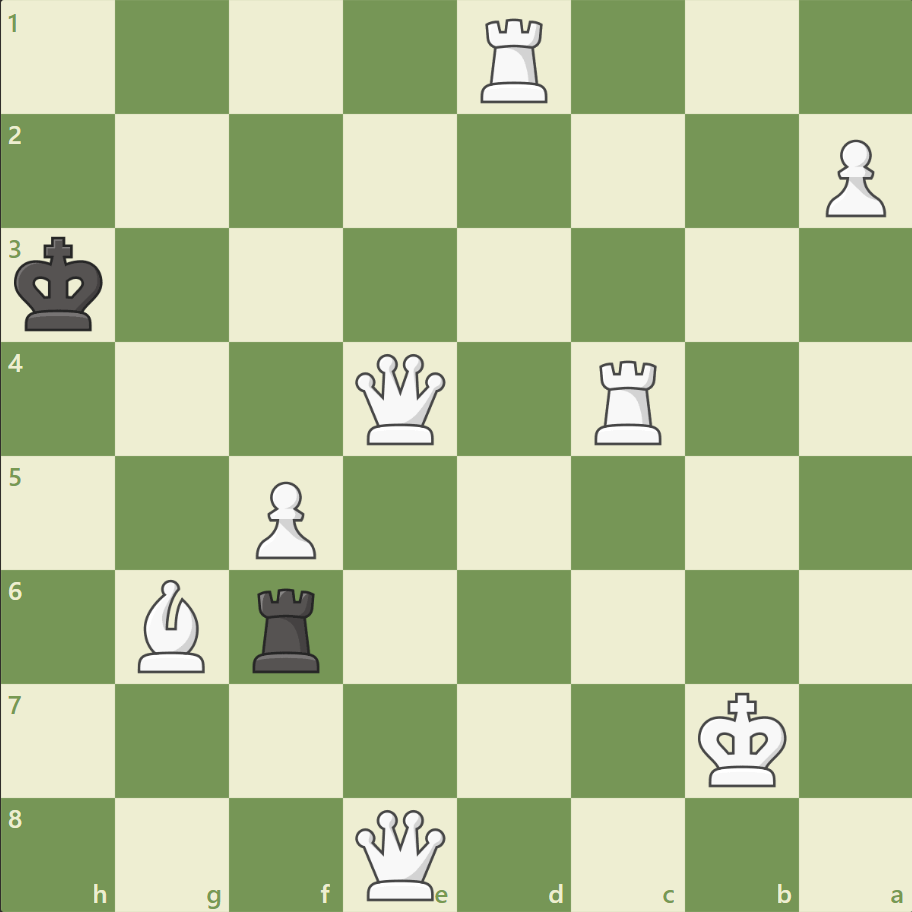B: (131, 574, 215, 676)
K: (692, 685, 792, 793)
P: (247, 473, 322, 564), (815, 132, 889, 223)
Q: (351, 349, 450, 449), (351, 804, 450, 903)
R: (587, 352, 670, 449), (473, 12, 556, 109)
k: (11, 231, 111, 339)
r: (246, 579, 329, 676)
